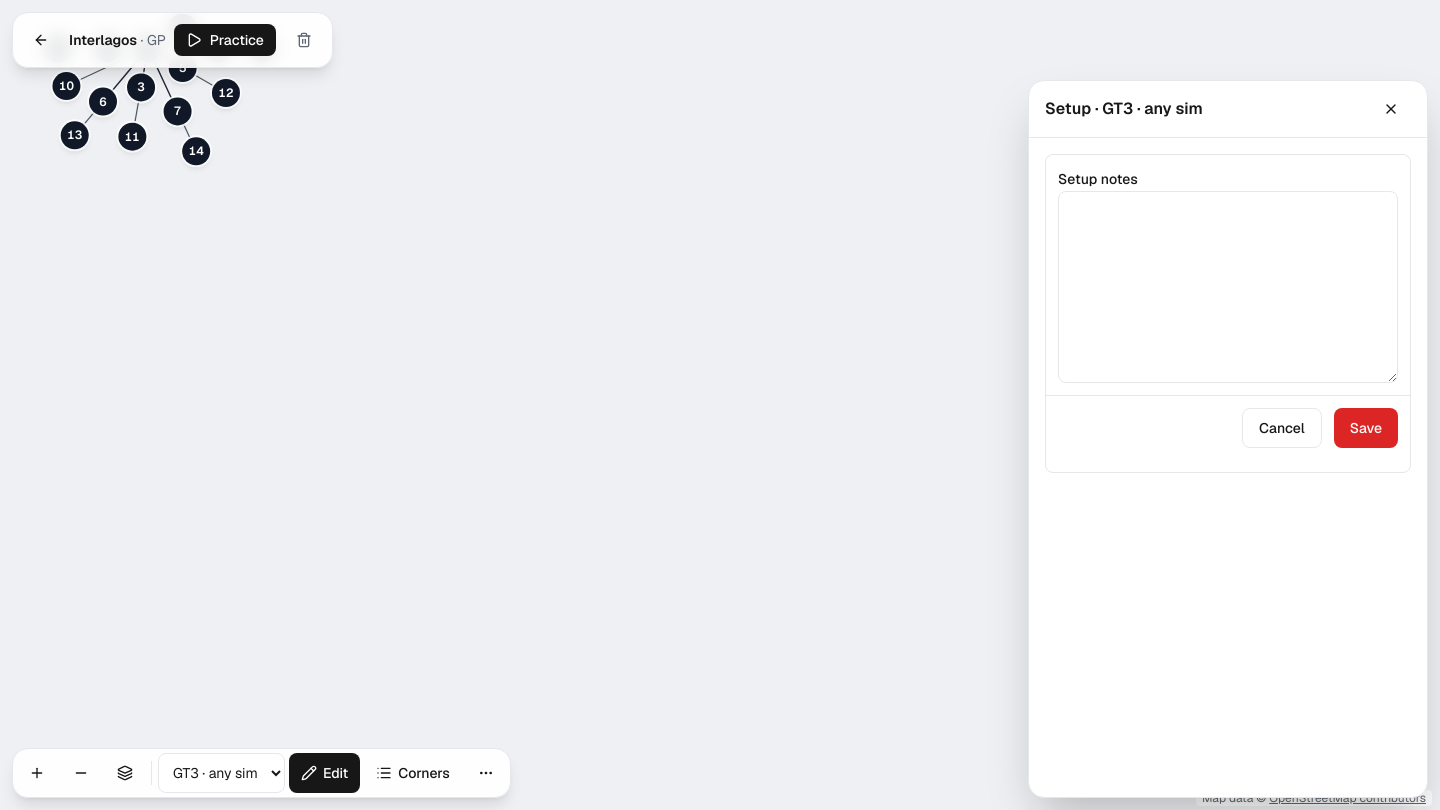
Test: TrackViewPage car setup › asks before the cheat sheet link drops unsaved setup edits
Type "Soft springs" into the text box labelled "Setup notes" at (1228, 287), box [1058,191,1398,383]
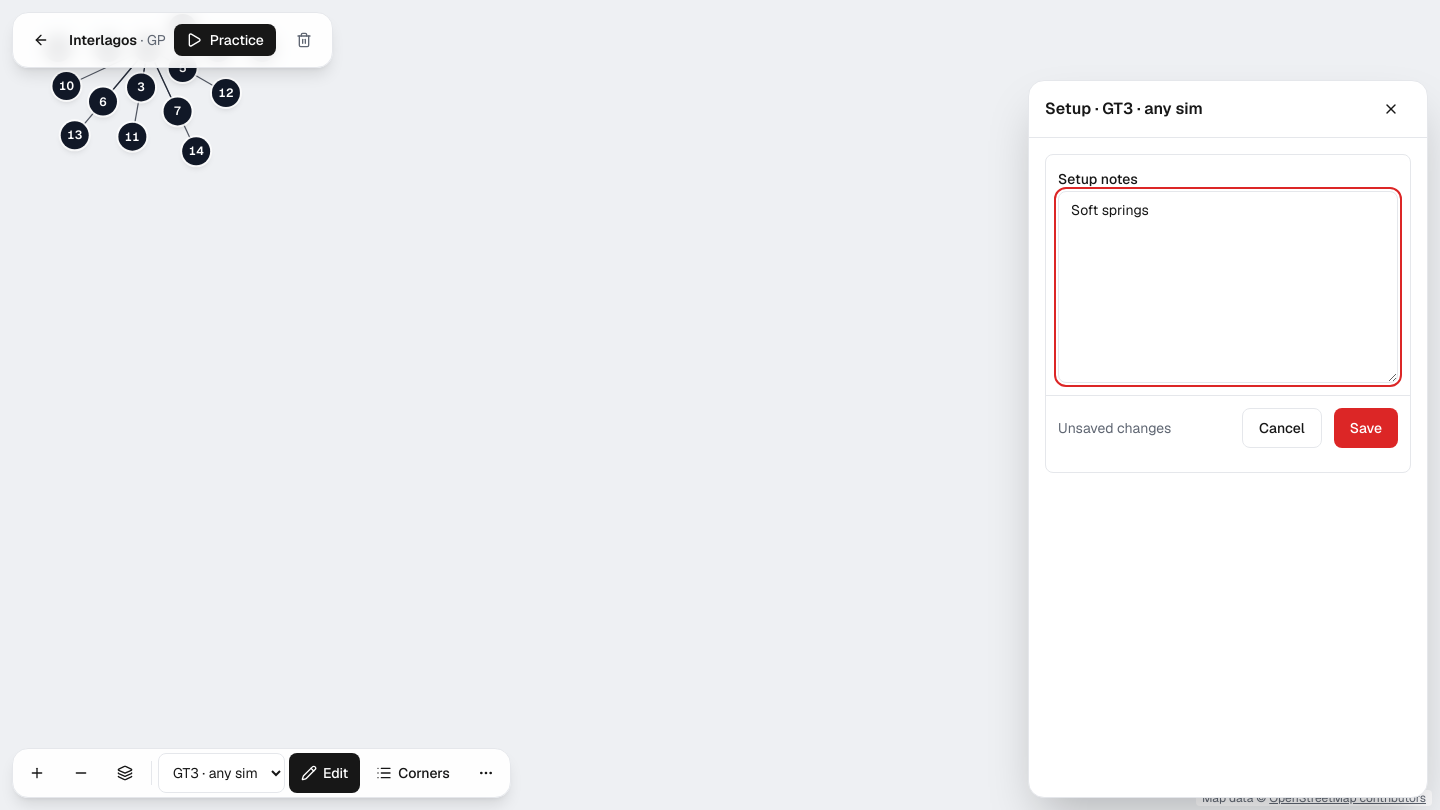
Click the button named "More map actions" at (486, 773), box [466,753,506,793]
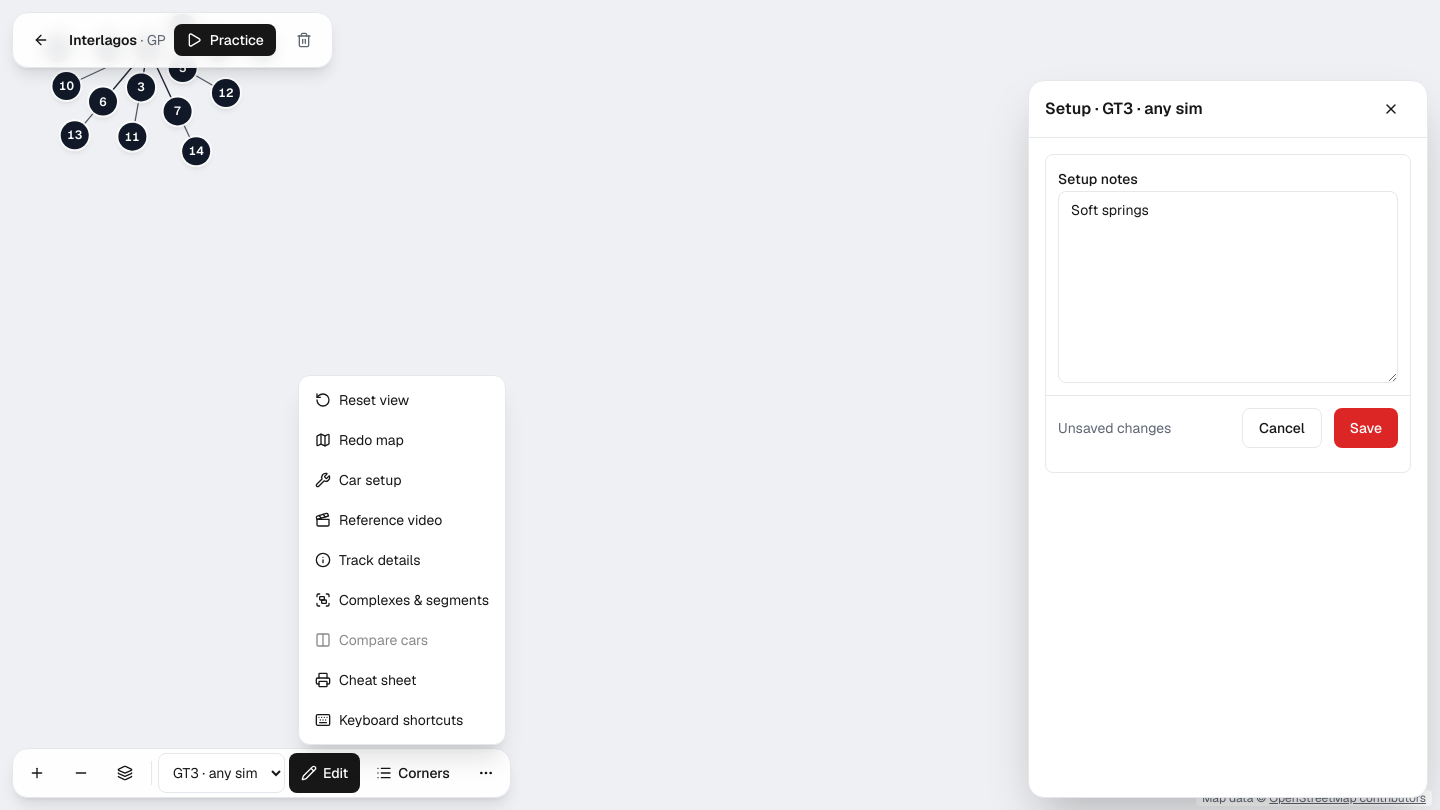
Click the menu item "Cheat sheet" at (366, 680), box [315,671,416,689]
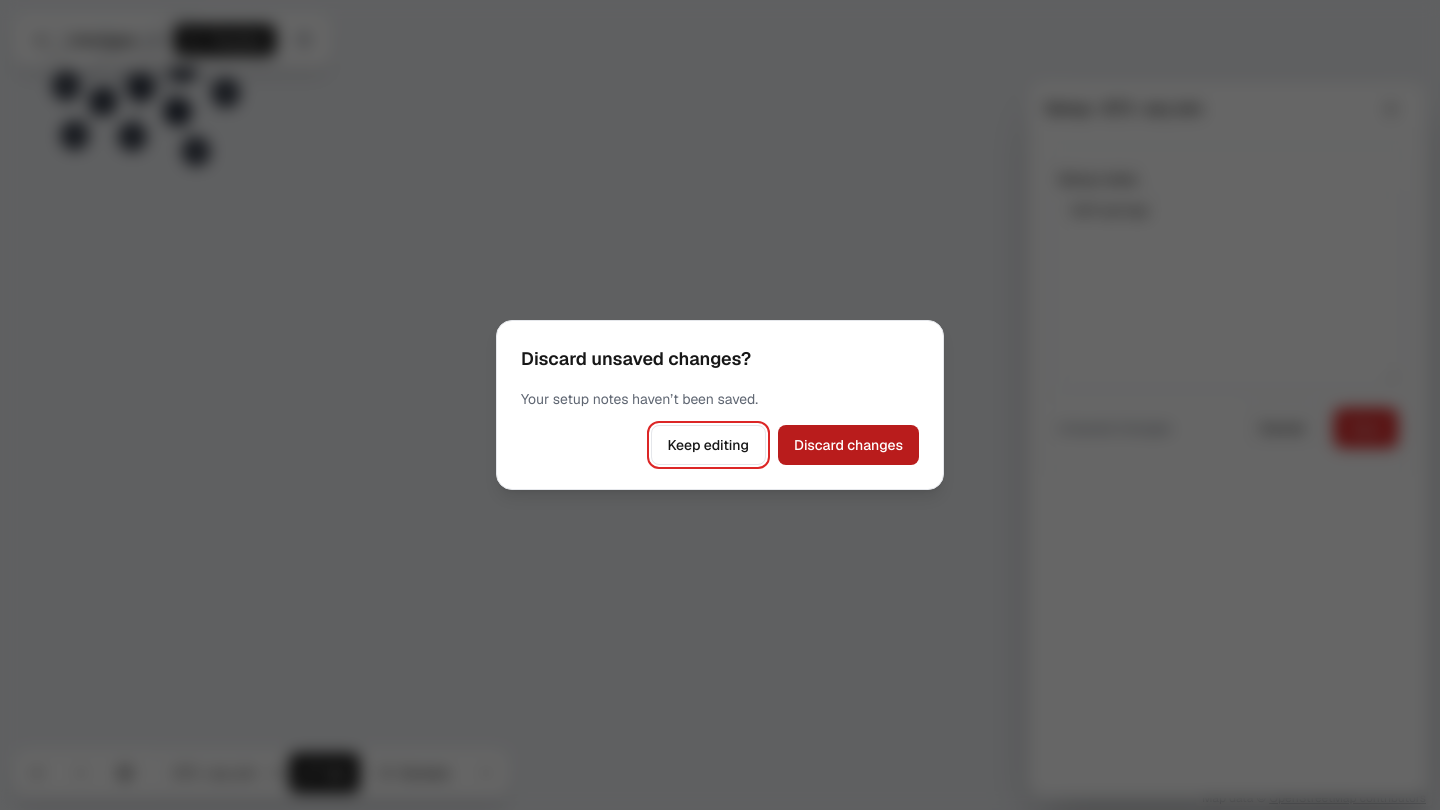
Check: the dialog "Discard unsaved changes?" is shown, box [496,320,944,490]
Click the button "Keep editing" at (708, 445), box [651,425,766,465]
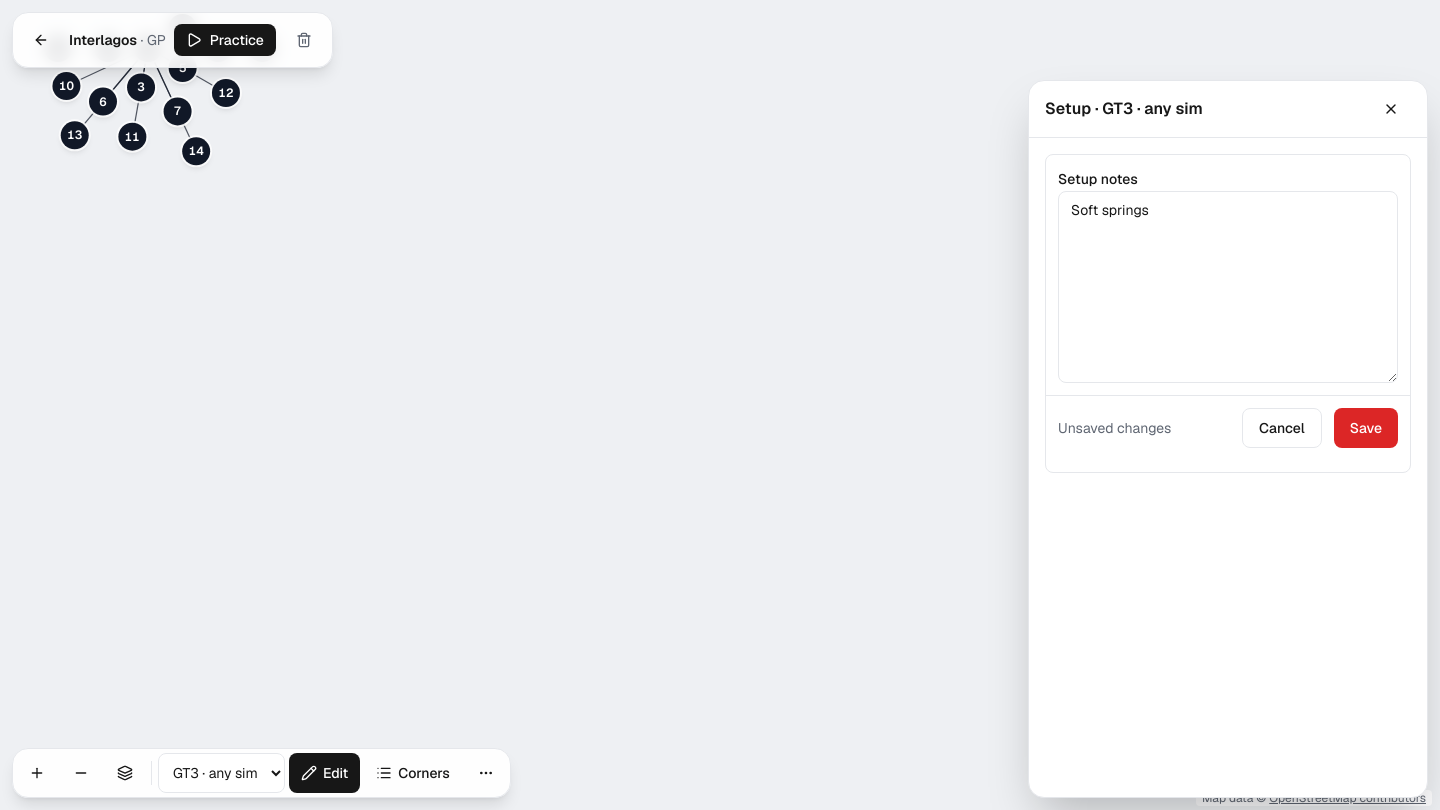
Check: the dialog is gone
